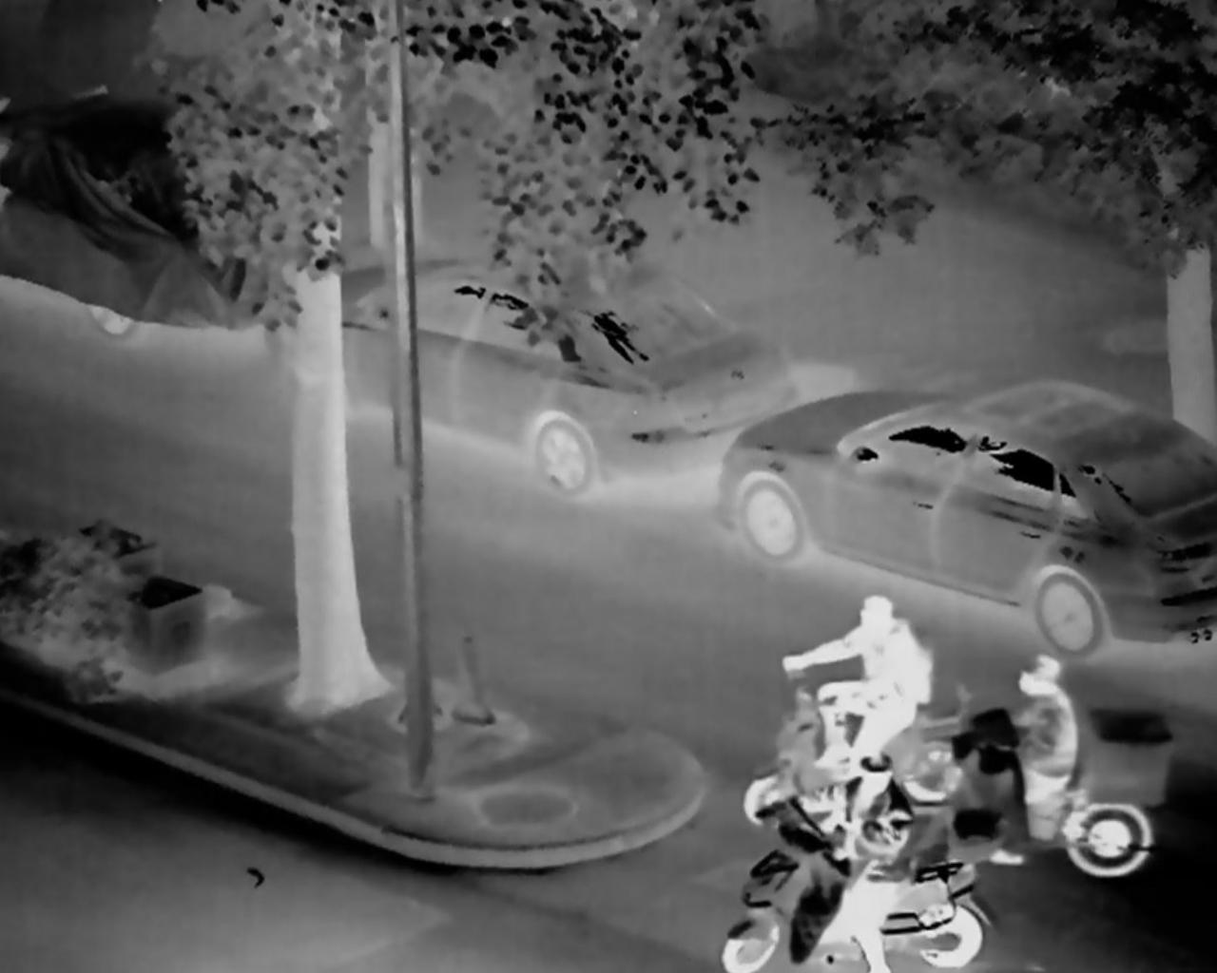person: (789, 596, 933, 810), (820, 760, 925, 973), (1004, 658, 1092, 820)
